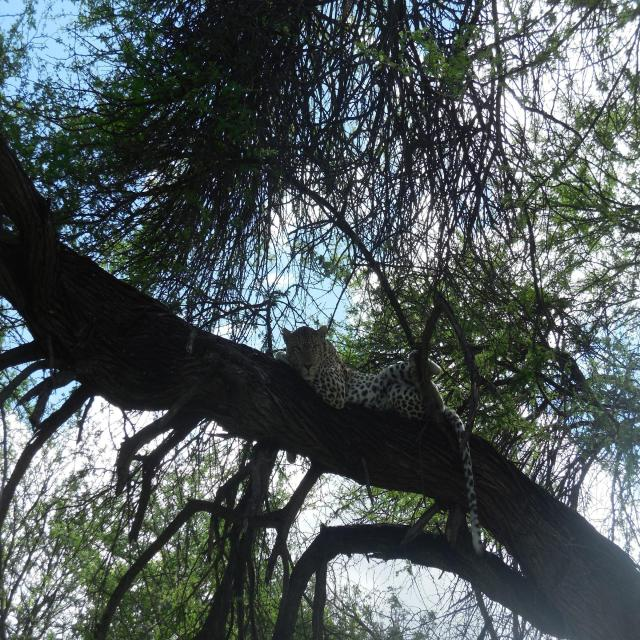Leopard: (257, 326, 496, 536)
